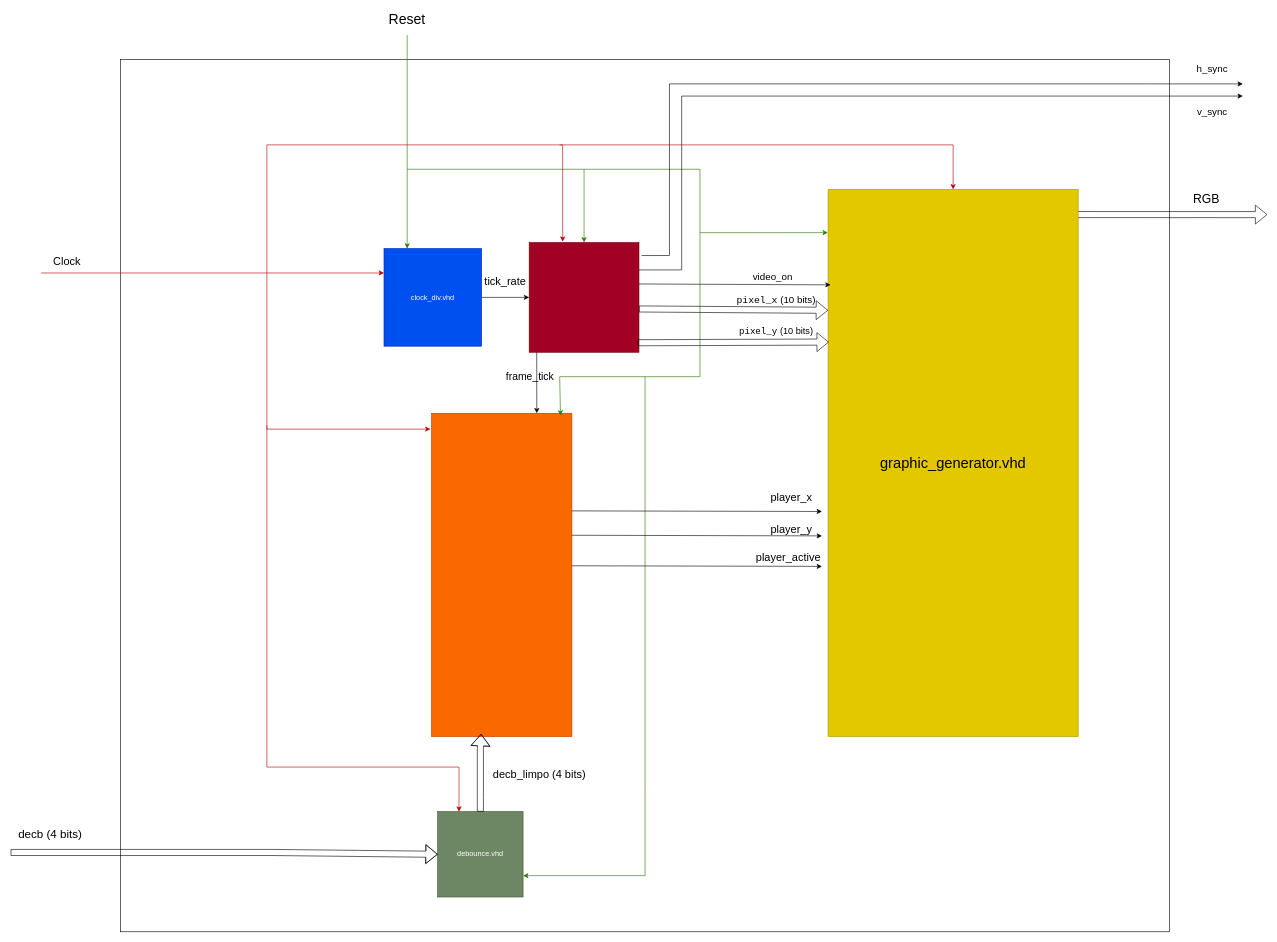
Some shapes in this 1277 by 942 pixel diagram are drawn without their labels. The centre of each missing label's shape, as x and y in pixels:
fsm_jogo.vhd: [501,575]
vga_sync.vhd: [584,297]
